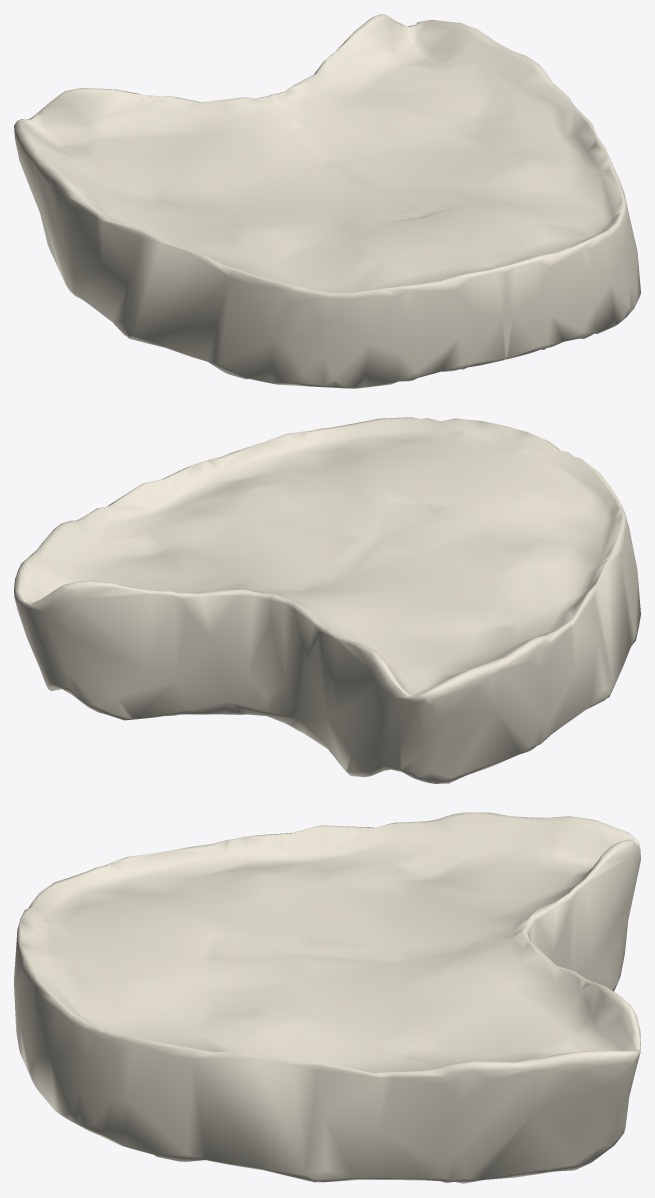
3 views of the same model, one above another, from view 1: azimuth 30°, elevation 25°; view 2: azimuth 150°, elevation 25°; view 3: azimuth 270°, elevation 25° (orthographic). The views are drawn at different scales.
Visible parts, largest first — view 1: ZA_2a68743eb638217c; view 2: ZA_2a68743eb638217c; view 3: ZA_2a68743eb638217c.
Boxes of the visible parts, bbox=[...] form: ZA_2a68743eb638217c: bbox=[14, 14, 640, 388]; ZA_2a68743eb638217c: bbox=[14, 417, 640, 783]; ZA_2a68743eb638217c: bbox=[14, 812, 640, 1183].
Bounding box in the file's own units: 0.0339 × 0.00942 × 0.0351.
